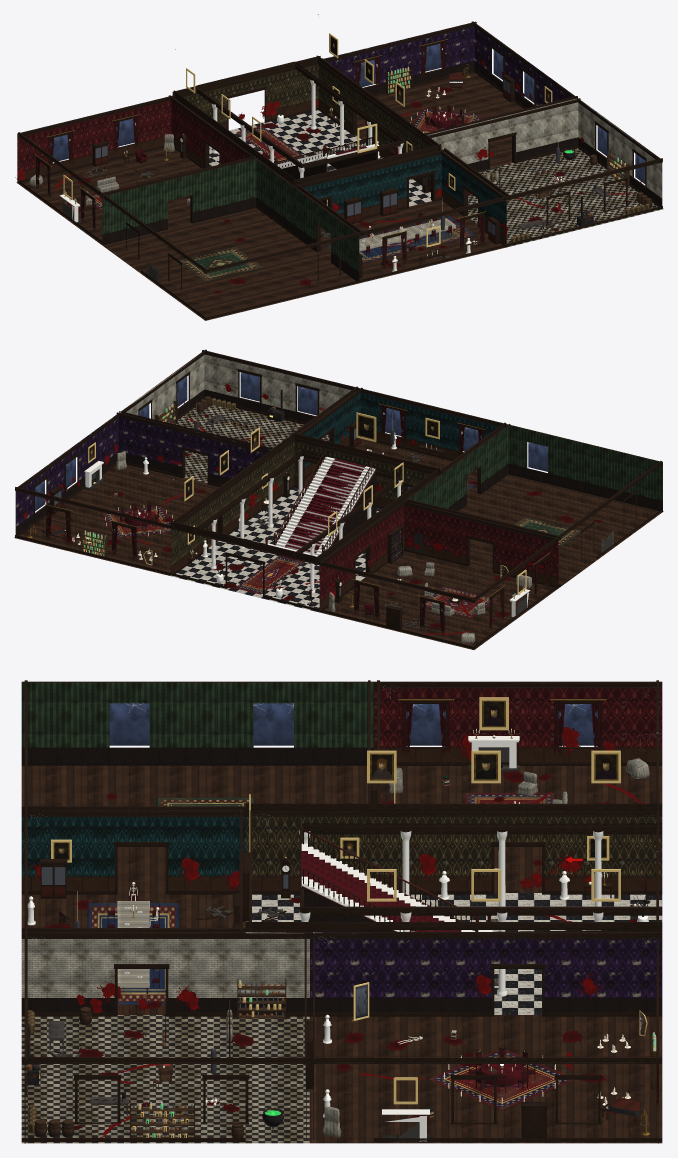
The model's file is house_ground_v15.glb.
3 renders of one model, top to bottom at view 1: azimuth 30°, elevation 25°; view 2: azimuth 150°, elevation 25°; view 3: azimuth 270°, elevation 25°, orthographic. The views are drawn at different scales.
Visible parts, largest first — view 1: house_ground; view 2: house_ground; view 3: house_ground.
Boxes of the visible parts, <box> form: house_ground: <box>15,14,663,320</box>; house_ground: <box>14,349,663,649</box>; house_ground: <box>21,680,662,1143</box>.
Bounding box in the file's own units: 56.48 × 11.45 × 40.58.
Materials: 80 (62 with a texture image).
